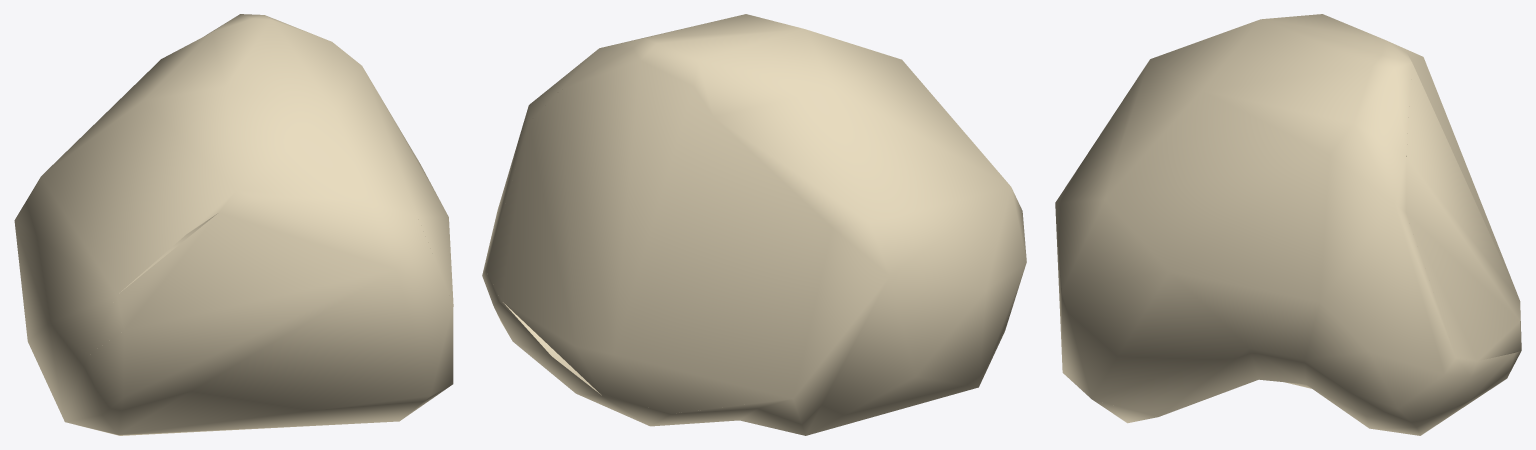
File: esqueleto-middle-phalanx-of-fifth-finger-of-foot-r.glb
The picture shows the model from 3 angles, left to right: view 1: azimuth 30°, elevation 25°; view 2: azimuth 150°, elevation 25°; view 3: azimuth 270°, elevation 25°; orthographic projection. The views are drawn at different scales.
Parts seen in each view (by area): view 1: Middle phalanx of fifth finger of foot.r; view 2: Middle phalanx of fifth finger of foot.r; view 3: Middle phalanx of fifth finger of foot.r.
Boxes of the visible parts, <box> form: Middle phalanx of fifth finger of foot.r: <box>14,14,453,435</box>; Middle phalanx of fifth finger of foot.r: <box>482,14,1026,435</box>; Middle phalanx of fifth finger of foot.r: <box>1055,14,1521,435</box>.
Size of the model in its own units: 0.0086 by 0.0066 by 0.00779.
